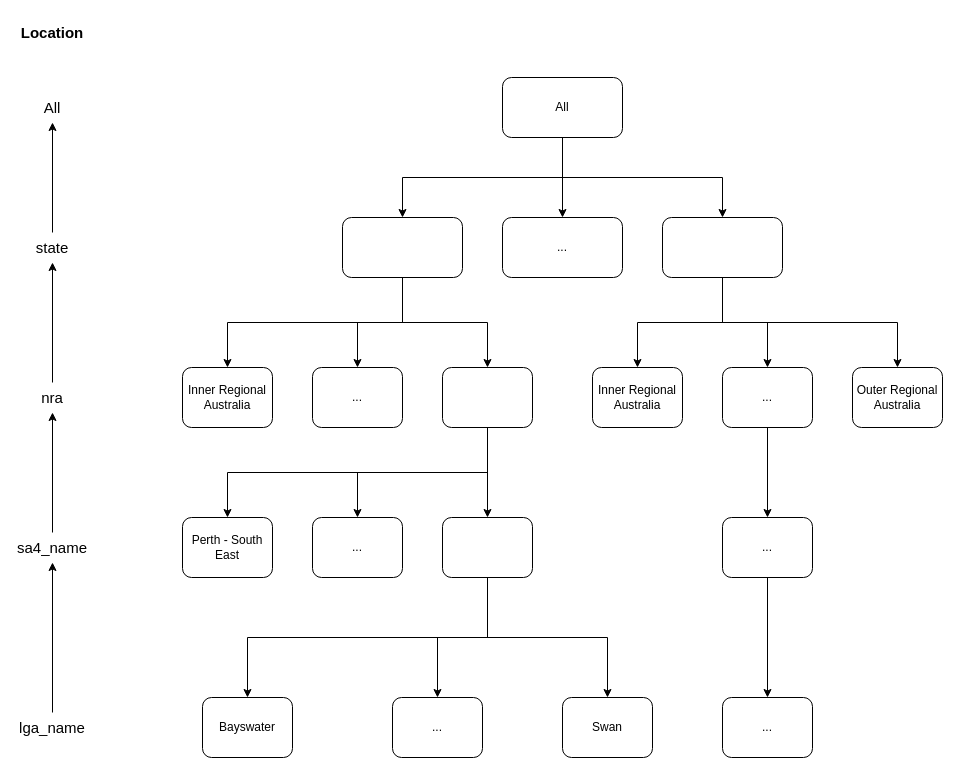
This 960x775 diagram has some shape labels left out. Here are the shapes that lost their labels. From the top down, the box of each, then its label:
(342, 216, 462, 278): WA
(662, 216, 782, 278): TAS
(442, 366, 532, 428): Major Cities of Australia
(442, 516, 532, 578): Perth - North East
